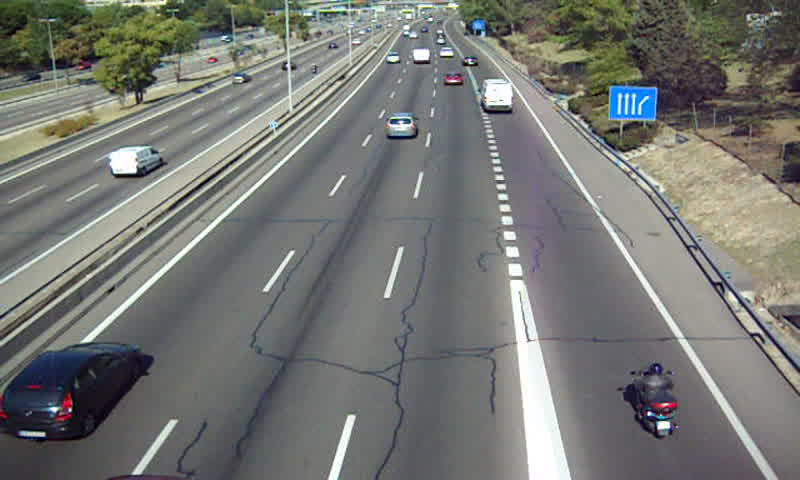car: (1, 343, 141, 442), (384, 112, 418, 140), (441, 70, 463, 87), (462, 54, 480, 68), (386, 52, 400, 65), (440, 46, 455, 58)
motorcycle: (629, 364, 678, 440)
van: (480, 78, 513, 114), (411, 48, 429, 63)
